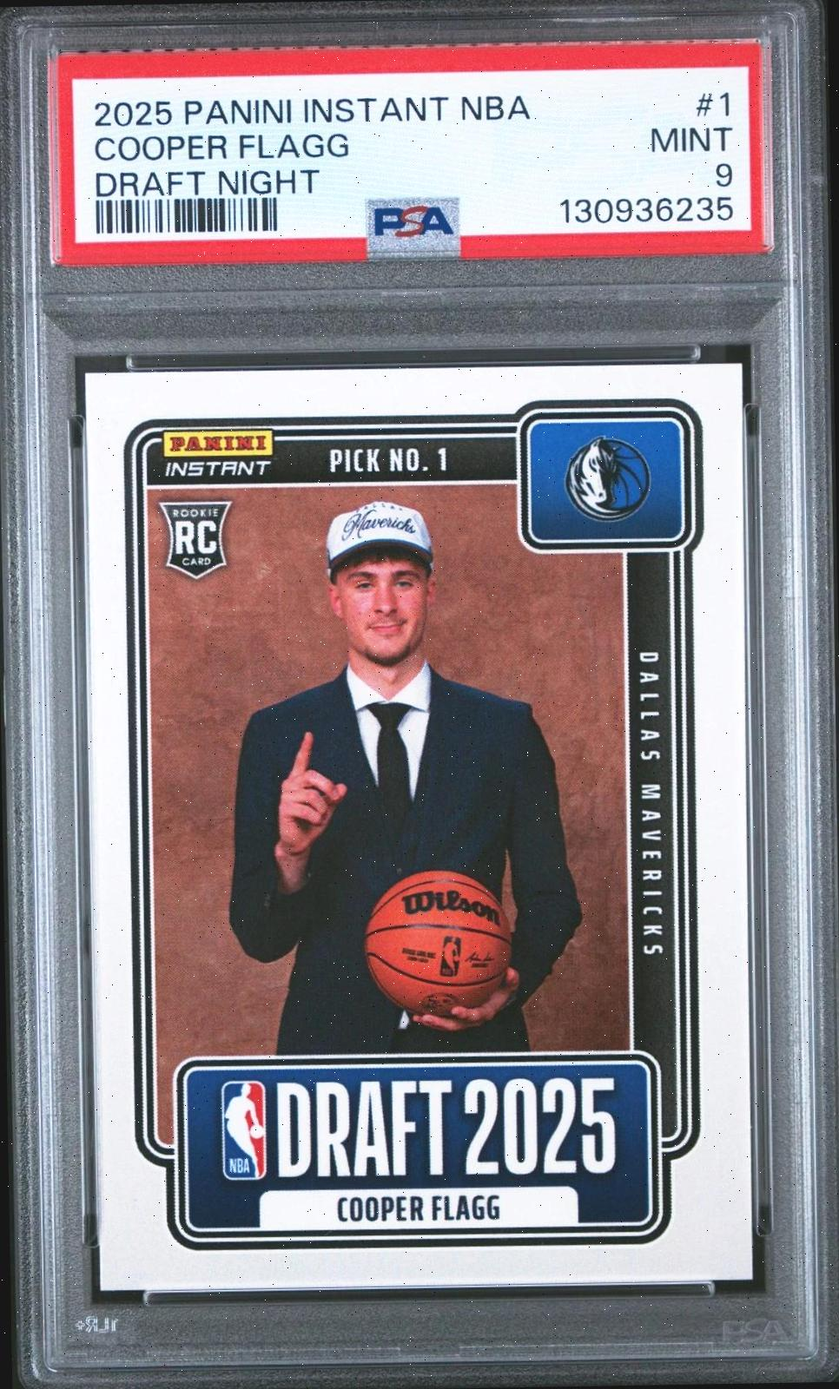card-2UtV: (84, 362, 753, 1291)
